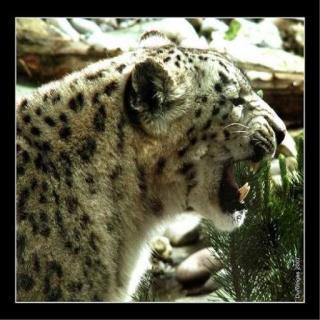Leopard: (17, 38, 290, 298)
